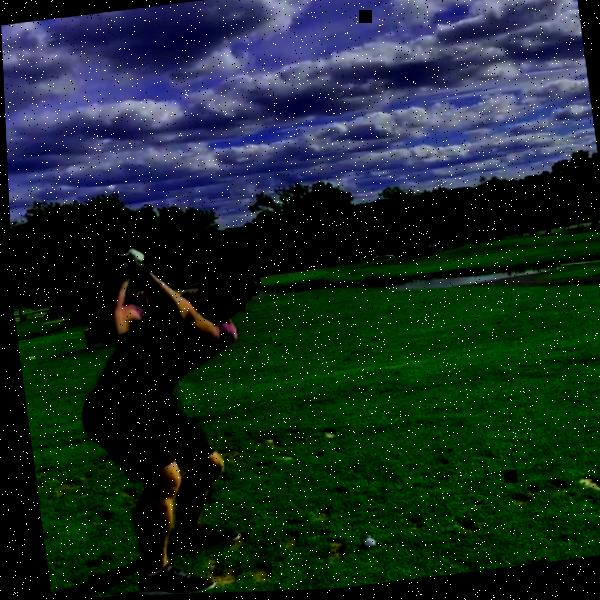ClubHead: (127, 248, 144, 263)
GolfBall: (359, 540, 372, 551)
